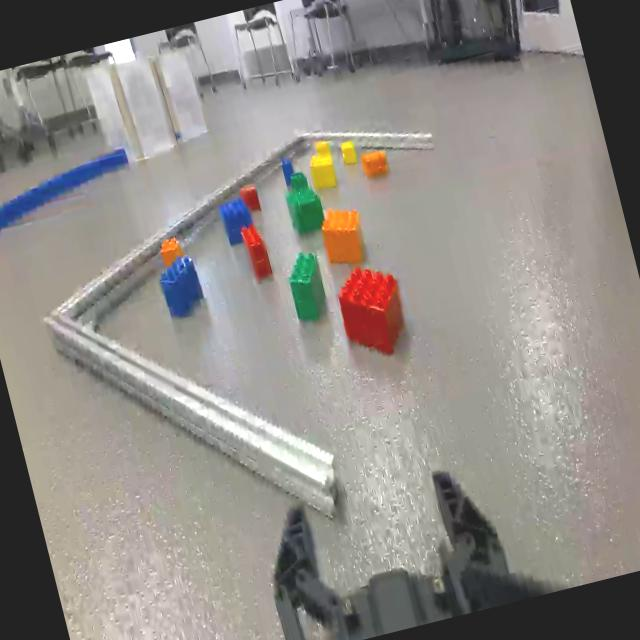block: (308, 152, 340, 192), (339, 139, 358, 166), (316, 139, 330, 155)
blue: (154, 250, 207, 320), (217, 196, 256, 247), (280, 154, 296, 184)
green: (281, 248, 332, 326), (284, 182, 327, 235), (288, 169, 308, 190)
metal barrier: (43, 131, 435, 523)
orange: (316, 202, 368, 270), (360, 147, 390, 178), (158, 236, 182, 264)
red goal: (331, 256, 414, 365), (240, 222, 274, 283), (240, 184, 260, 210)
river: (0, 146, 138, 245)
storage cube: (83, 49, 179, 168), (140, 44, 210, 146)
